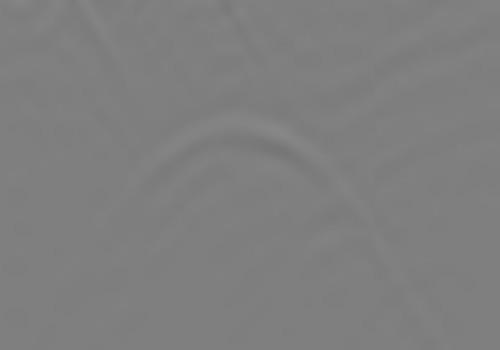Hyperbola: (46, 91, 419, 318)
